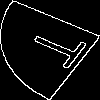T: (25, 25, 100, 75)
